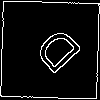D: (25, 25, 84, 83)
